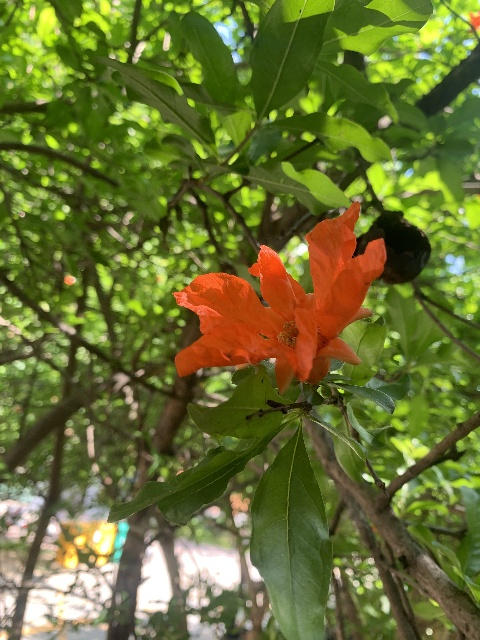flower: (169, 202, 386, 393)
